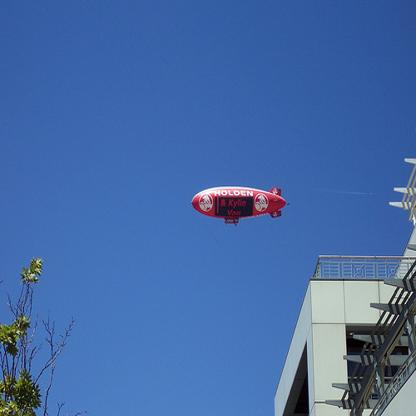Airship: (190, 182, 291, 226)
